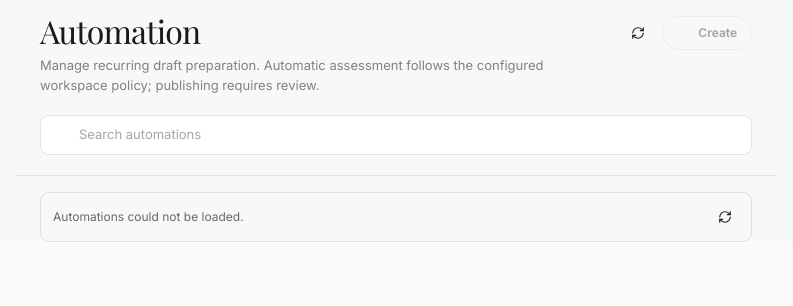
RoutinesWorkspace › does not render the empty state when automations fail to load
Expected: the message reads "Automations could not be loaded.", [53,209,244,224]
Expected: the text "No automations yet" is not shown
What coordinates should you click on to do the following:
click the button named "Retry"
I would click on:
 (725, 217)
Its box is [711,203,739,231].
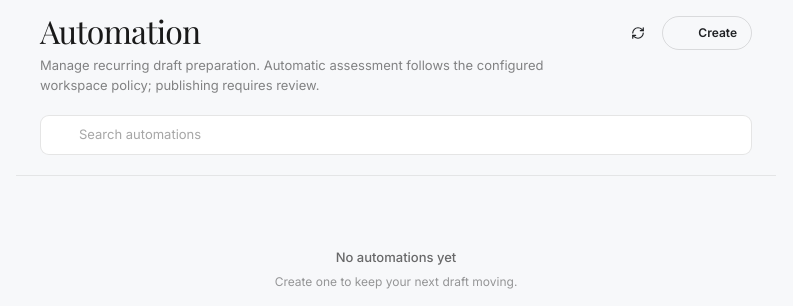
Expected: the text "No automations yet" is shown, [336,249,456,265]
